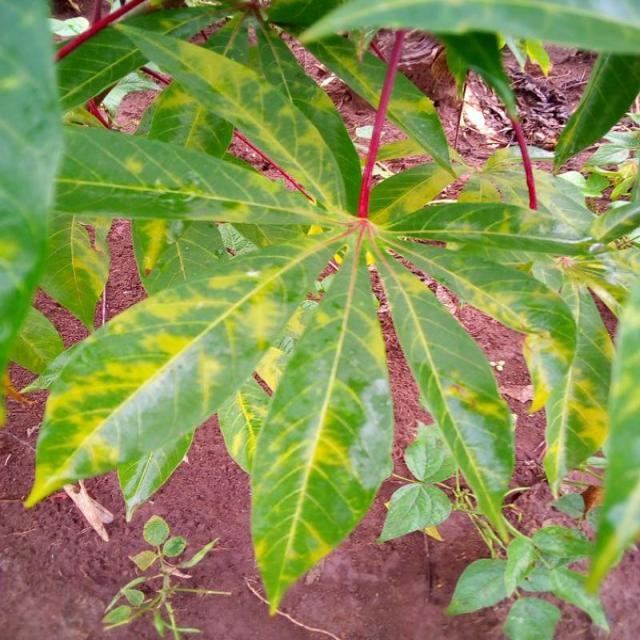cassava leaf: (10, 2, 637, 623), (22, 232, 339, 520), (248, 230, 395, 616)
